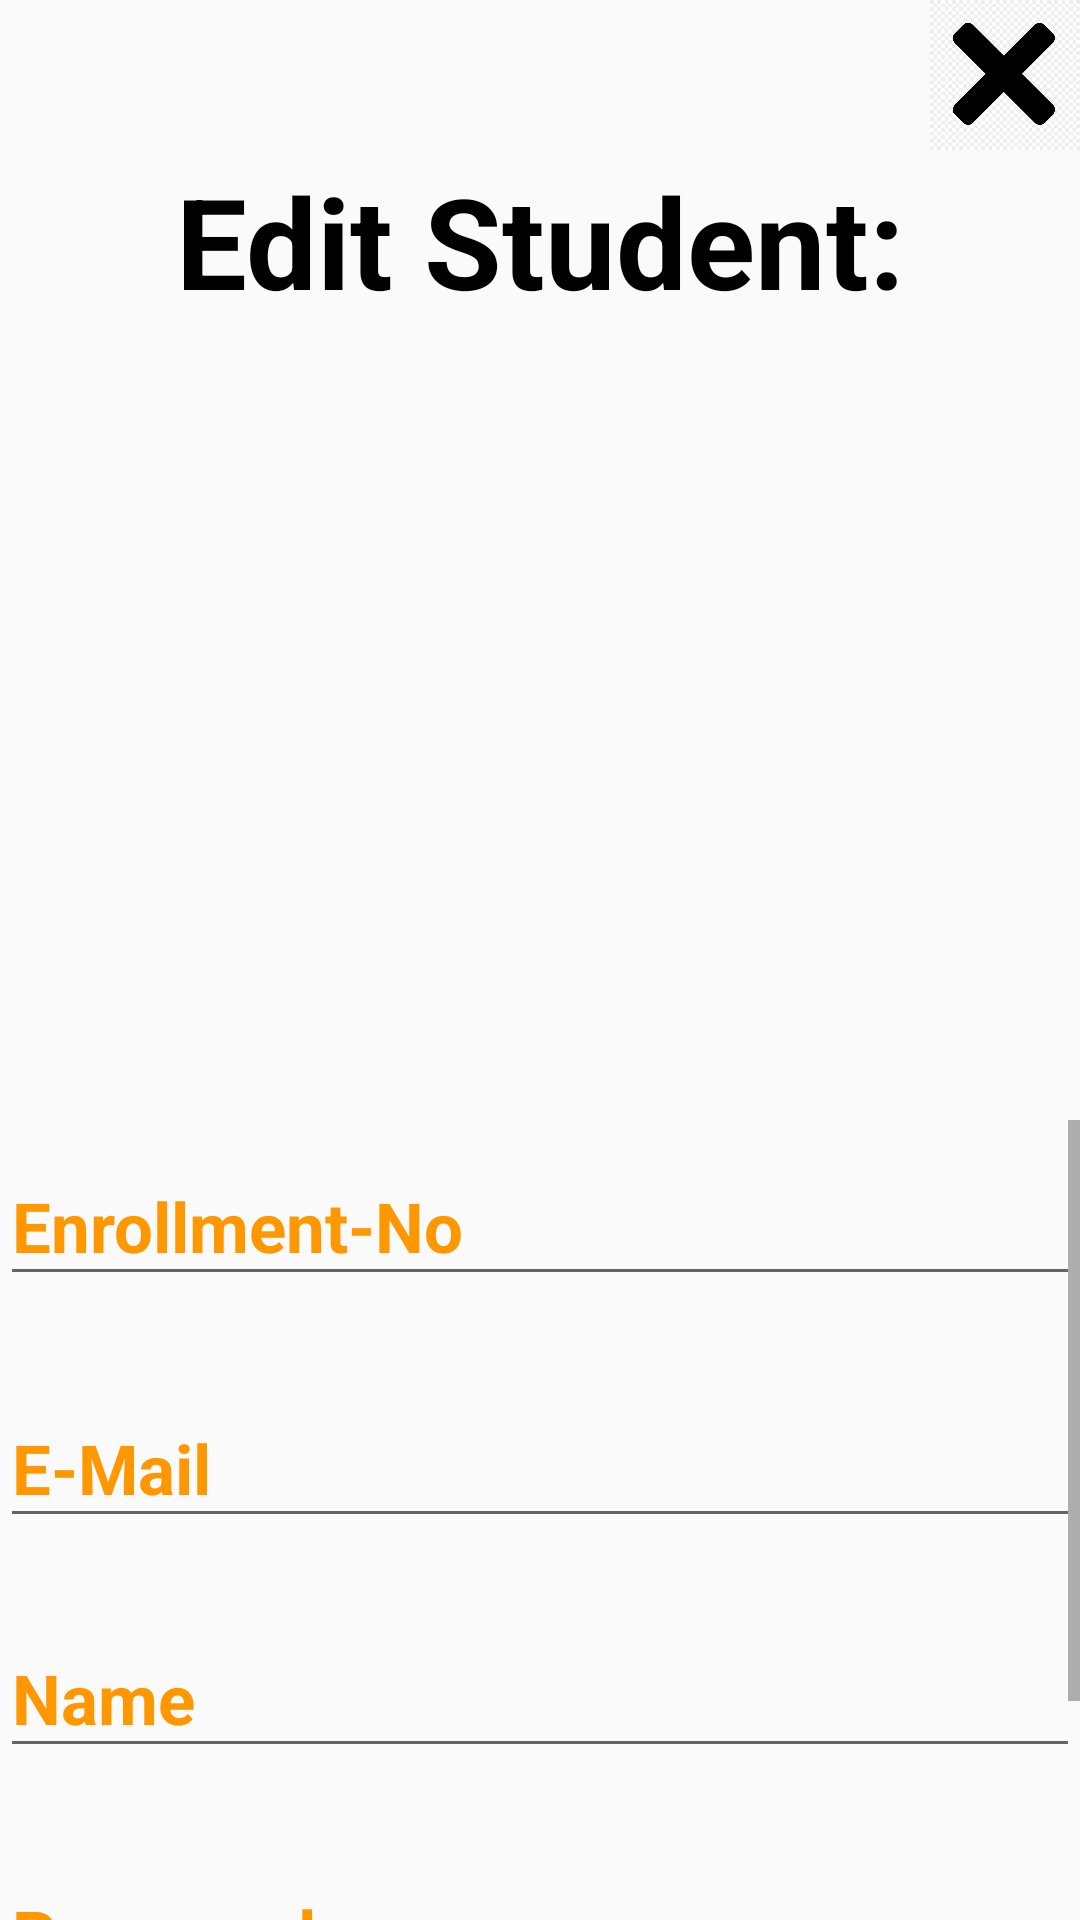

Icons on this 1080*1920 Android screen, each with its box as (x1, y1, x2, y2):
close window: (953, 23, 1055, 125)
